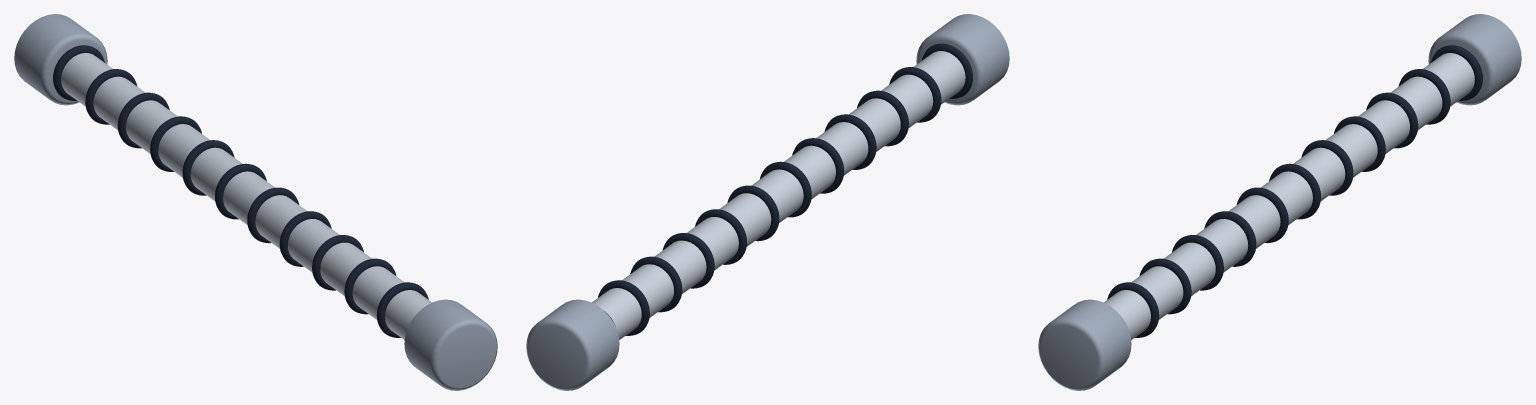
File: shared_zipline_cable.glb
3 views of the same model, side by side, from view 1: azimuth 30°, elevation 25°; view 2: azimuth 150°, elevation 25°; view 3: azimuth 330°, elevation 25° (orthographic).
Visible parts, largest first — view 1: zipcable_core, zipcable_clamp0, zipcable_clamp-1, zipcable_twist3, zipcable_twist9, zipcable_twist10, zipcable_twist2, zipcable_twist11, zipcable_twist5, zipcable_twist1, zipcable_twist8, zipcable_twist4 (+2 smaller); view 2: zipcable_core, zipcable_clamp-1, zipcable_clamp0, zipcable_twist6, zipcable_twist9, zipcable_twist10, zipcable_twist2, zipcable_twist5, zipcable_twist8, zipcable_twist7, zipcable_twist3, zipcable_twist4 (+2 smaller); view 3: zipcable_core, zipcable_clamp0, zipcable_clamp-1, zipcable_twist3, zipcable_twist9, zipcable_twist10, zipcable_twist2, zipcable_twist11, zipcable_twist5, zipcable_twist1, zipcable_twist8, zipcable_twist4 (+2 smaller).
Boxes of the visible parts, box(x1,y1,x2,y2) form: zipcable_core: box(61, 53, 431, 339); zipcable_clamp0: box(404, 299, 497, 390); zipcable_clamp-1: box(14, 14, 107, 105); zipcable_twist3: box(312, 235, 363, 290); zipcable_twist9: box(117, 92, 169, 148); zipcable_twist10: box(85, 69, 137, 124); zipcable_twist2: box(344, 258, 396, 314); zipcable_twist11: box(53, 45, 104, 100); zipcable_twist5: box(247, 187, 299, 243); zipcable_twist1: box(376, 282, 428, 337); zipcable_twist8: box(150, 116, 201, 171); zipcable_twist4: box(279, 211, 331, 266); zipcable_core: box(592, 51, 965, 339); zipcable_clamp-1: box(526, 299, 619, 390); zipcable_clamp0: box(916, 14, 1009, 105); zipcable_twist6: box(727, 185, 779, 241); zipcable_twist9: box(630, 256, 682, 312); zipcable_twist10: box(598, 280, 649, 335); zipcable_twist2: box(857, 90, 908, 146); zipcable_twist5: box(760, 161, 811, 217); zipcable_twist8: box(663, 233, 714, 288); zipcable_twist7: box(695, 209, 746, 264); zipcable_twist3: box(824, 114, 876, 169); zipcable_twist4: box(792, 138, 844, 193); zipcable_core: box(1104, 53, 1474, 339); zipcable_clamp0: box(1038, 299, 1131, 390); zipcable_clamp-1: box(1428, 14, 1521, 105); zipcable_twist3: box(1172, 235, 1223, 290); zipcable_twist9: box(1366, 92, 1418, 148); zipcable_twist10: box(1398, 69, 1450, 124); zipcable_twist2: box(1139, 258, 1191, 314); zipcable_twist11: box(1431, 45, 1482, 100); zipcable_twist5: box(1236, 187, 1288, 243); zipcable_twist1: box(1107, 282, 1159, 337); zipcable_twist8: box(1334, 116, 1385, 171); zipcable_twist4: box(1204, 211, 1256, 266).
Size of the model in its own units: 0.1 by 0.1 by 1.08.
